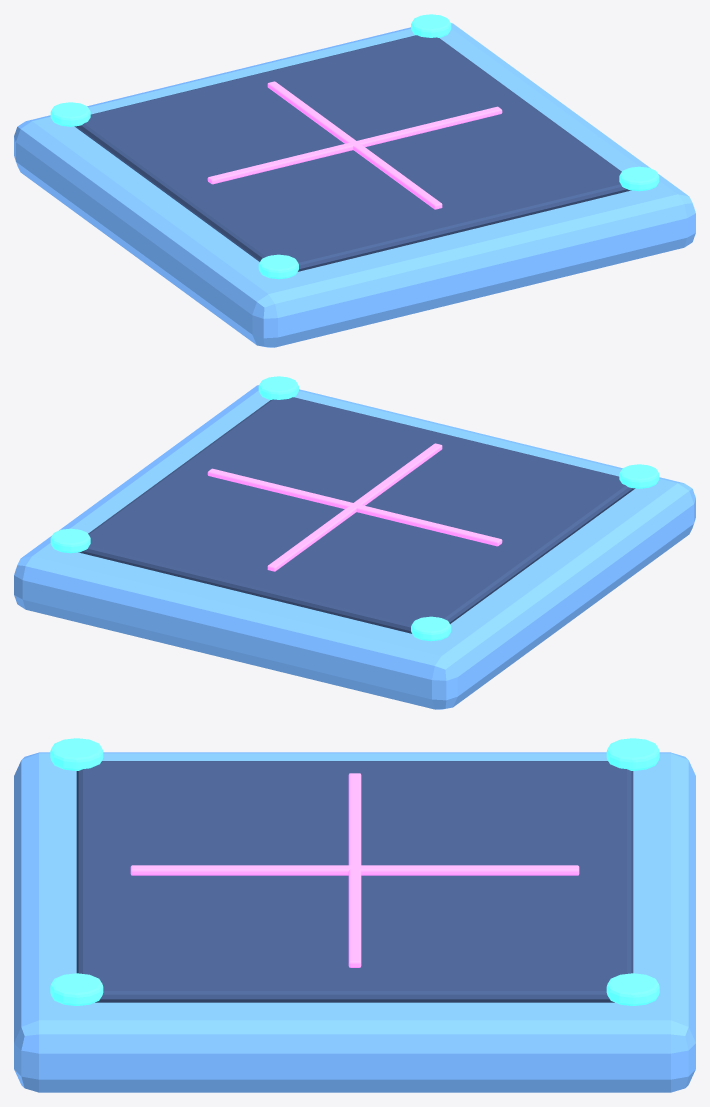
File: moving_platform.glb
3 renders of one model, top to bottom at view 1: azimuth 30°, elevation 25°; view 2: azimuth 150°, elevation 25°; view 3: azimuth 270°, elevation 25°, orthographic. The views are drawn at different scales.
Parts seen in each view (by area): view 1: moving_platform_MobileMesh; view 2: moving_platform_MobileMesh; view 3: moving_platform_MobileMesh.
Part boxes in pixels (x1=…): moving_platform_MobileMesh: x1=14, y1=14, x2=695, y2=347; moving_platform_MobileMesh: x1=14, y1=376, x2=695, y2=709; moving_platform_MobileMesh: x1=14, y1=738, x2=695, y2=1092.
Size of the model in its own units: 3.8 by 0.57 by 3.8.
